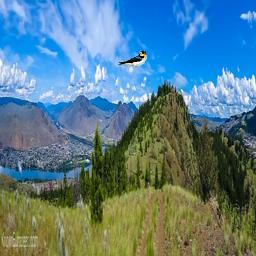Swallow: (112, 50, 147, 68)
